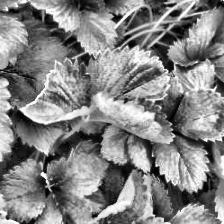Powdery Mildew Leaf: (72, 168, 151, 224), (92, 92, 175, 143)
